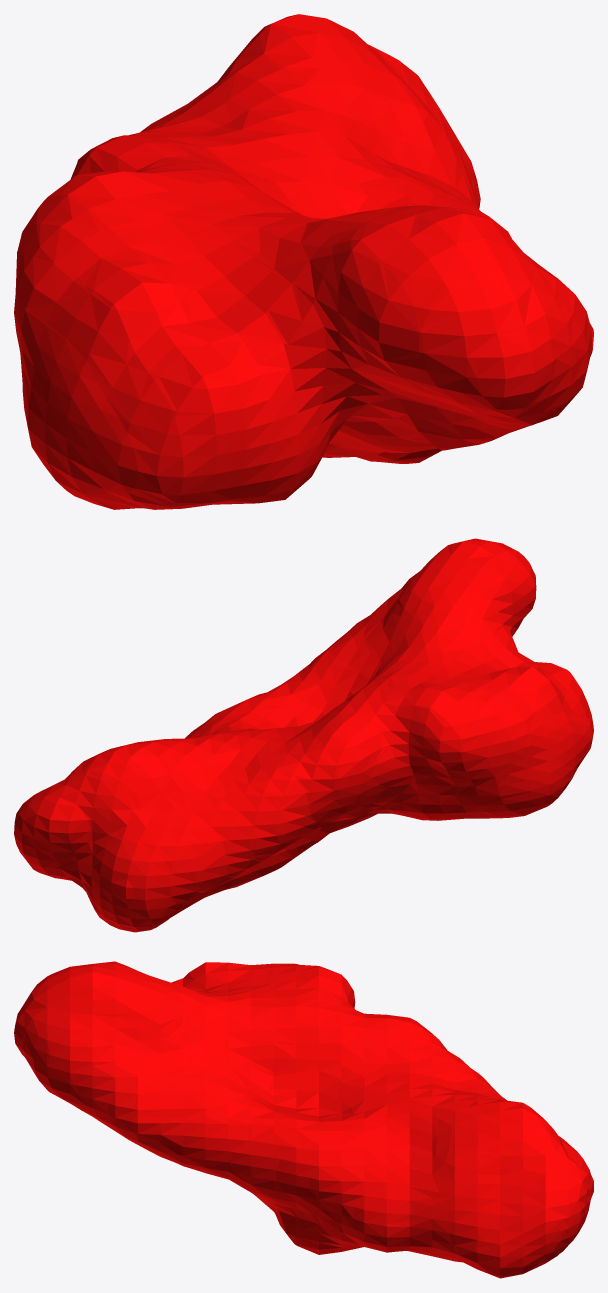
File: yqjA_coarse.dae
The picture shows the model from 3 angles, top to bottom: view 1: azimuth 30°, elevation 25°; view 2: azimuth 150°, elevation 25°; view 3: azimuth 270°, elevation 25°; orthographic projection. The views are drawn at different scales.
Visible parts, largest first — view 1: yqjA; view 2: yqjA; view 3: yqjA.
Part boxes in pixels (x1=…): yqjA: x1=14, y1=14, x2=593, y2=509; yqjA: x1=14, y1=538, x2=593, y2=932; yqjA: x1=14, y1=961, x2=593, y2=1278.
Bounding box in the file's own units: 61.21 × 37.62 × 81.58.
